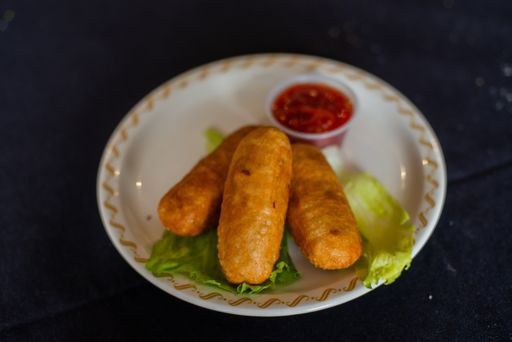pizza: (265, 73, 358, 150)
sushi: (265, 75, 358, 149)
